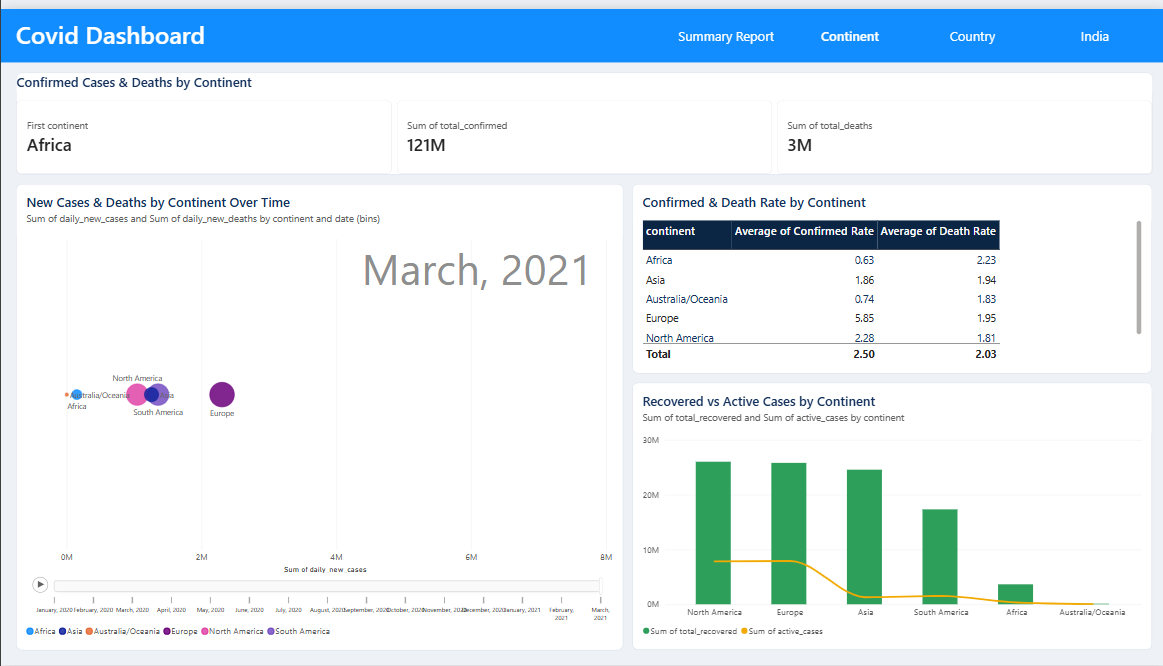

The dashboard page shown, as its layout file describes it:
{"tool":"powerbi","page":{"name":"Continent","canvas":[1920,1080],"ordinal":1},"visuals":[{"type":"scatterChart","title":"New Cases & Deaths by Continent Over Time","fields":{"Series":["Summary Data.continent"],"X":["Sum(Daily Data.daily_new_cases)"],"Size":["Sum(Daily Data.daily_new_deaths)"],"Play":["Daily Data.date (bins)"]},"box":[24,288,1000,768],"z":0},{"type":"lineStackedColumnComboChart","title":"Recovered vs Active Cases by Continent","fields":{"Category":["Summary Data.continent"],"Y":["Sum(Summary Data.total_recovered)"],"Y2":["Sum(Summary Data.active_cases)"]},"box":[1040,616,856,440],"z":1000},{"type":"cardVisual","title":"Confirmed Cases & Deaths by Continent","fields":{"Data":["Min(Summary Data.continent)","Sum(Summary Data.total_confirmed)","Sum(Summary Data.total_deaths)"]},"box":[24,104,1872,168],"z":2000},{"type":"tableEx","title":"Confirmed & Death Rate by Continent","fields":{"Values":["Summary Data.continent","Avg(Summary Data.Confirmed Rate)","Avg(Summary Data.Death Rate)"]},"box":[1040,288,856,312],"z":3000},{"type":"shape","box":[0,0,1920,88],"z":20000},{"type":"textbox","box":[24,14,900,60],"z":21000},{"type":"shape","box":[1100,20,190,48],"z":22000},{"type":"shape","box":[1302,20,190,48],"z":23000},{"type":"shape","box":[1504,20,190,48],"z":24000},{"type":"shape","box":[1706,20,190,48],"z":25000}]}

Visuals, with their boxes in screenshot pixels (x1, y1, x2, y2), scaled from the page's 1920x1080 canvas onto the 1163x666 screenshot:
"New Cases & Deaths by Continent Over Time" scatterChart: <bbox>15, 178, 620, 651</bbox>
"Recovered vs Active Cases by Continent" lineStackedColumnComboChart: <bbox>630, 380, 1148, 651</bbox>
"Confirmed Cases & Deaths by Continent" cardVisual: <bbox>15, 64, 1148, 168</bbox>
"Confirmed & Death Rate by Continent" tableEx: <bbox>630, 178, 1148, 370</bbox>
shape: <bbox>0, 0, 1162, 54</bbox>
textbox: <bbox>15, 9, 560, 46</bbox>
shape: <bbox>666, 12, 781, 42</bbox>
shape: <bbox>789, 12, 904, 42</bbox>
shape: <bbox>911, 12, 1026, 42</bbox>
shape: <bbox>1033, 12, 1148, 42</bbox>
